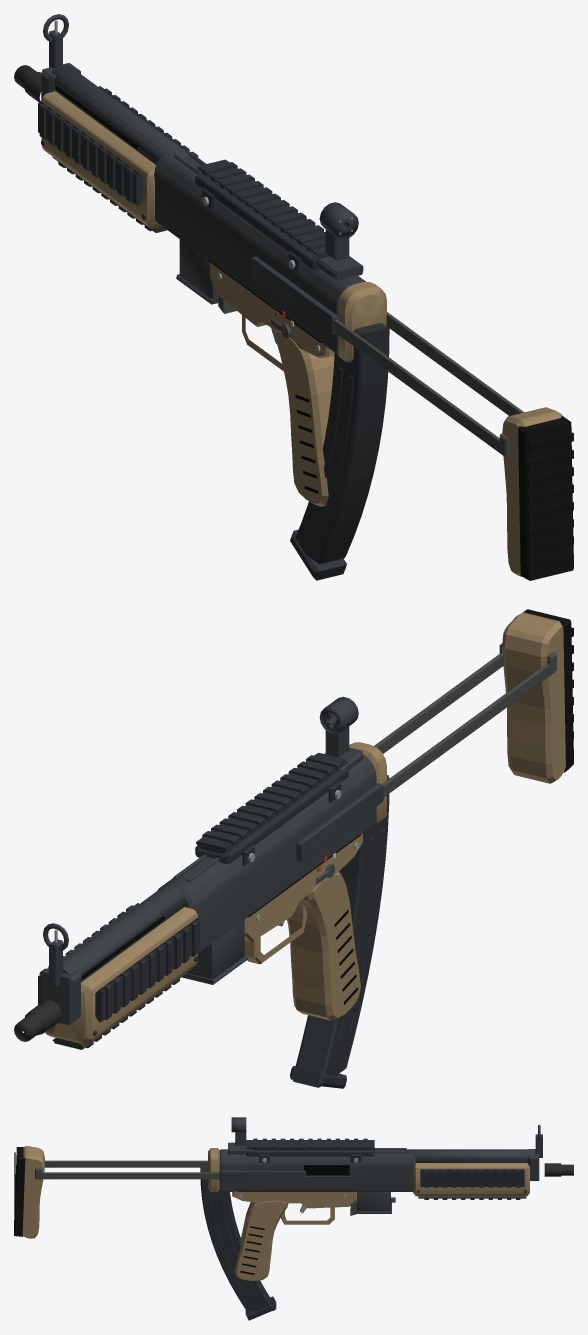
Rendered from weapon-54-BwsS8WpA.glb.
The picture shows the model from 3 angles, top to bottom: view 1: azimuth 30°, elevation 25°; view 2: azimuth 150°, elevation 25°; view 3: azimuth 270°, elevation 25°; orthographic projection. The views are drawn at different scales.
Parts seen in each view (by area): view 1: salient_weapon_body, salient_weapon_magazine, salient_weapon_iron; view 2: salient_weapon_body, salient_weapon_magazine, salient_weapon_iron; view 3: salient_weapon_body, salient_weapon_magazine, salient_weapon_iron.
Boxes of the visible parts, box(x1,y1,x2,y2) form: salient_weapon_body: box(14, 63, 573, 580); salient_weapon_magazine: box(290, 323, 389, 580); salient_weapon_iron: box(43, 14, 358, 260); salient_weapon_body: box(14, 609, 573, 1049); salient_weapon_magazine: box(290, 775, 389, 1088); salient_weapon_iron: box(43, 696, 358, 986); salient_weapon_body: box(14, 1138, 573, 1280); salient_weapon_magazine: box(200, 1165, 276, 1320); salient_weapon_iron: box(231, 1117, 542, 1157).
Bounding box in the file's own units: 0.0456 × 0.2404 × 0.612.
